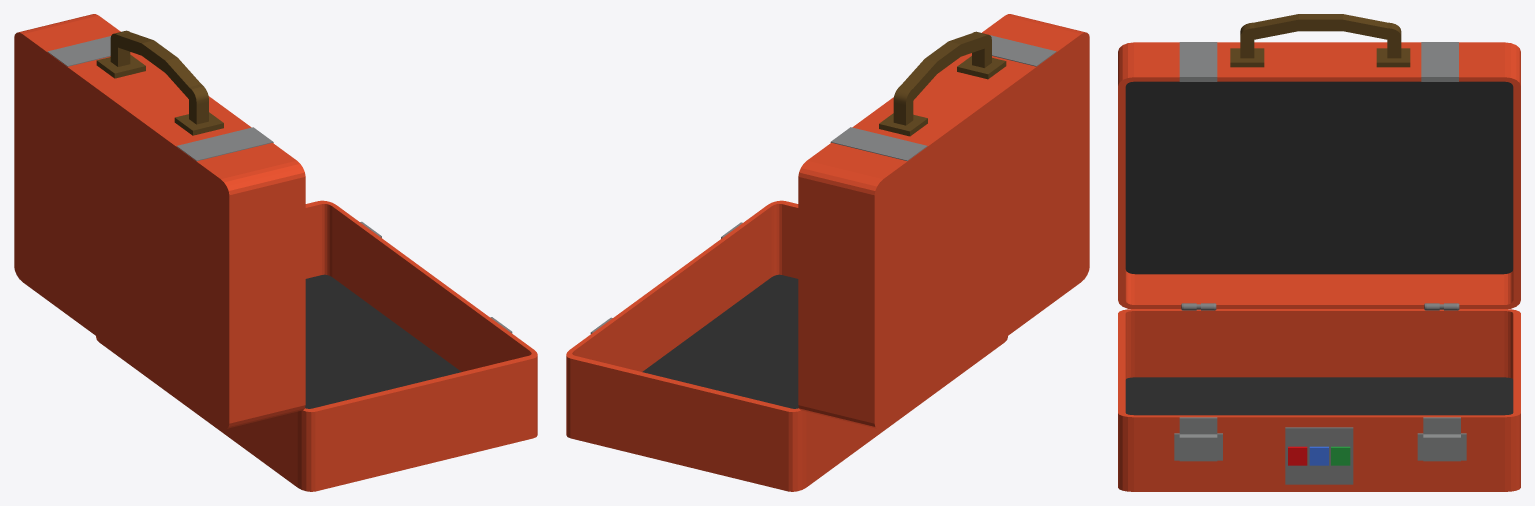
Rendered from case.fbx.
3 renders of one model, left to right at view 1: azimuth 30°, elevation 25°; view 2: azimuth 150°, elevation 25°; view 3: azimuth 270°, elevation 25°, orthographic. The views are drawn at different scales.
Parts seen in each view (by area): view 1: case, black, RYCHKA, zavis; view 2: case, black, RYCHKA, zavis; view 3: black, case, zavis, RYCHKA, gold.
Part boxes in pixels (x1,y1,x2,y2): case: (14, 14, 537, 491); black: (305, 274, 461, 408); RYCHKA: (96, 30, 223, 135); zavis: (47, 36, 512, 333); case: (566, 14, 1089, 491); black: (642, 274, 798, 408); RYCHKA: (879, 31, 1006, 136); zavis: (590, 35, 1056, 333); black: (1125, 81, 1513, 415); case: (1118, 42, 1520, 491); zavis: (1174, 42, 1466, 461); RYCHKA: (1230, 14, 1410, 67); gold: (1181, 303, 1459, 484).
Size of the model in its own units: 60.69 by 67.65 by 70.69.
